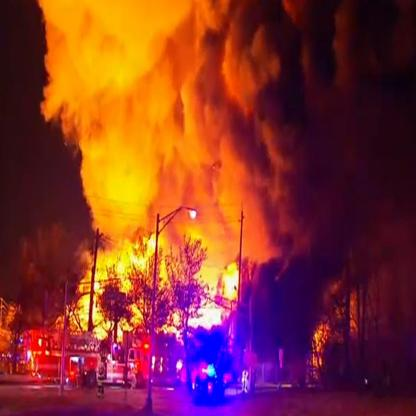fire: (78, 265, 110, 336), (116, 227, 158, 276), (219, 259, 240, 305)
